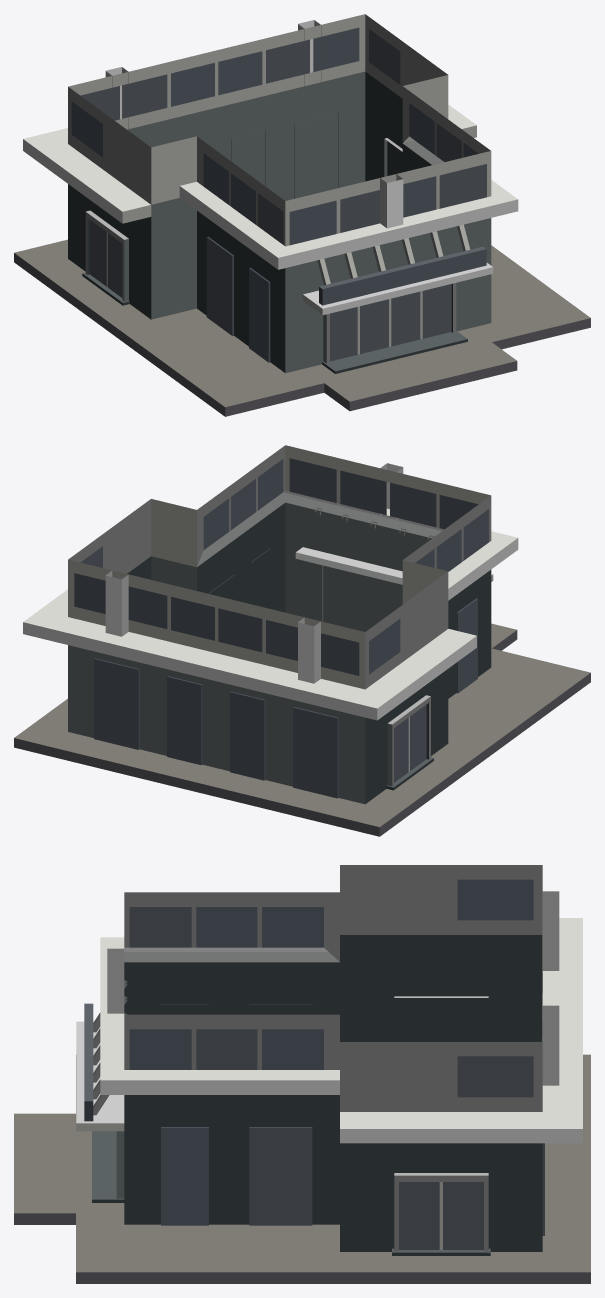
Rendered from TB_CITY_Skysc_B_Bottom_Gray.FBX.
3 views of the same model, one above another, from view 1: azimuth 30°, elevation 25°; view 2: azimuth 150°, elevation 25°; view 3: azimuth 270°, elevation 25° (orthographic). The views are drawn at different scales.
Parts seen in each view (by area): view 1: TB_CITY_Skysc_B_Bottom_Gray; view 2: TB_CITY_Skysc_B_Bottom_Gray; view 3: TB_CITY_Skysc_B_Bottom_Gray.
Part boxes in pixels (x1,y1,x2,y2): TB_CITY_Skysc_B_Bottom_Gray: (14,14,590,416); TB_CITY_Skysc_B_Bottom_Gray: (14,445,590,836); TB_CITY_Skysc_B_Bottom_Gray: (14,865,590,1283).
Size of the model in its own units: 32 by 15.2 by 35.86.
